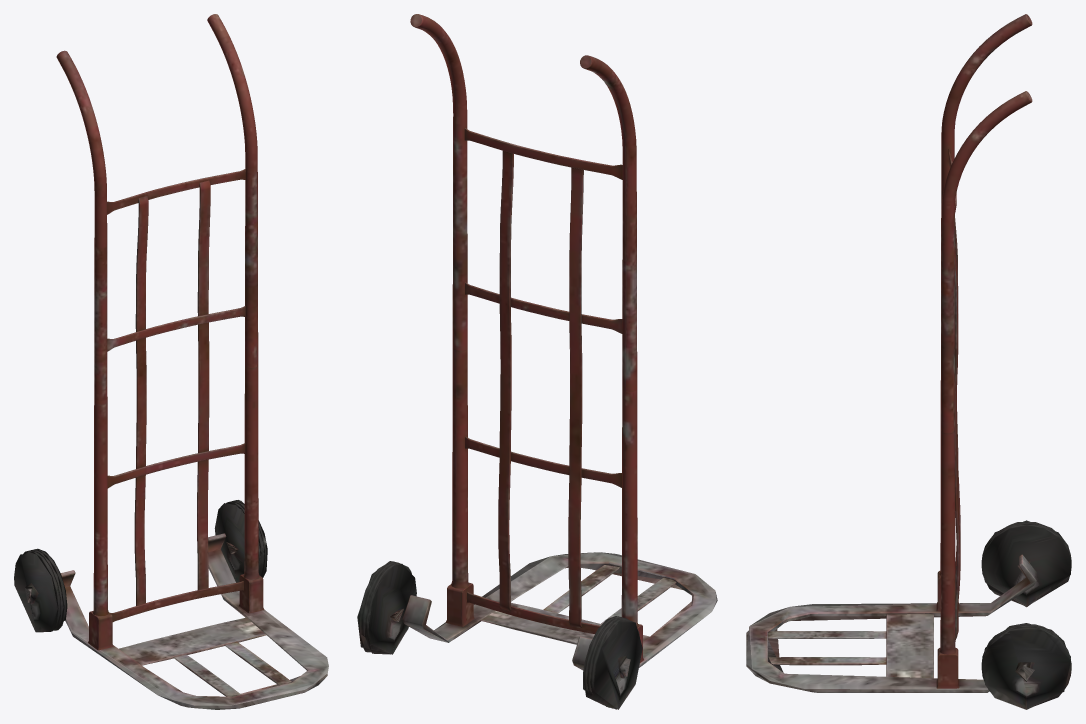
Rendered from handTruck_lo.glb.
The picture shows the model from 3 angles, left to right: view 1: azimuth 30°, elevation 25°; view 2: azimuth 150°, elevation 25°; view 3: azimuth 270°, elevation 25°; orthographic projection. The views are drawn at different scales.
Parts seen in each view (by area): view 1: hand_truck; view 2: hand_truck; view 3: hand_truck.
Part boxes in pixels (x1,y1,x2,y2): hand_truck: (14, 14, 328, 709); hand_truck: (357, 14, 717, 709); hand_truck: (746, 14, 1071, 709).
Bounding box in the file's own units: 0.5789 × 1.4 × 0.6876.
1 material, 1 textured.
